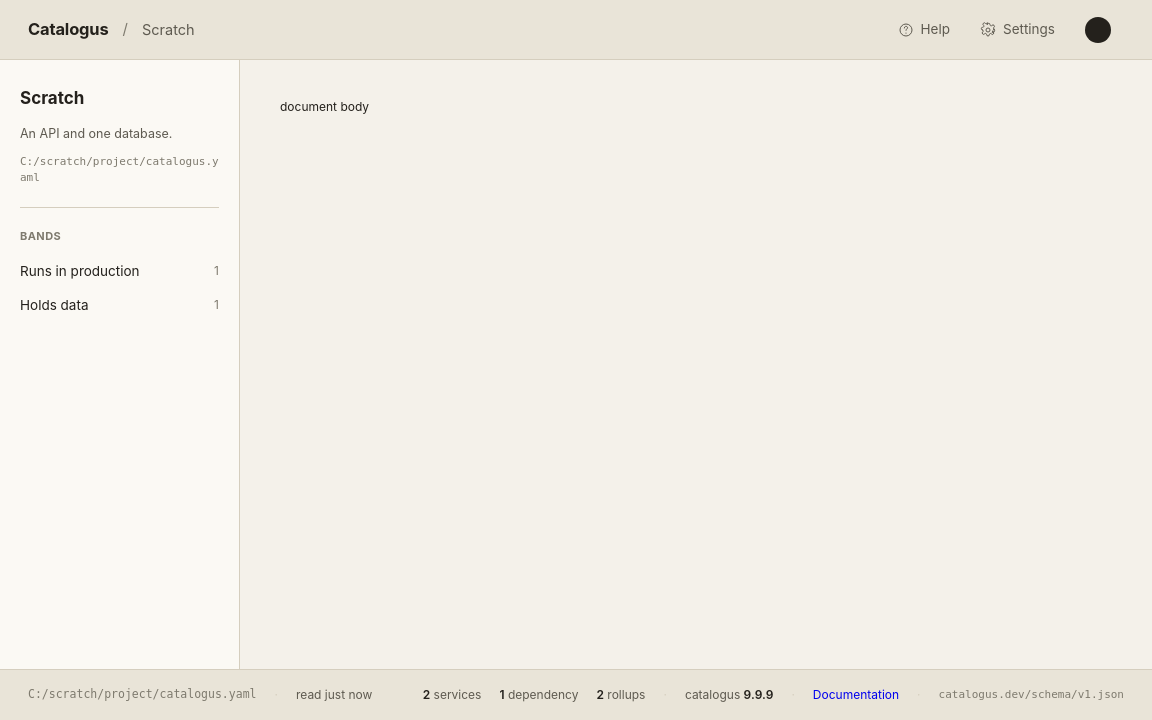
Scenario: AppShell -- the three menus › closes the Settings surface on a click outside it
Click the button "Settings".
click(1018, 30)  # box [967,11,1068,48]
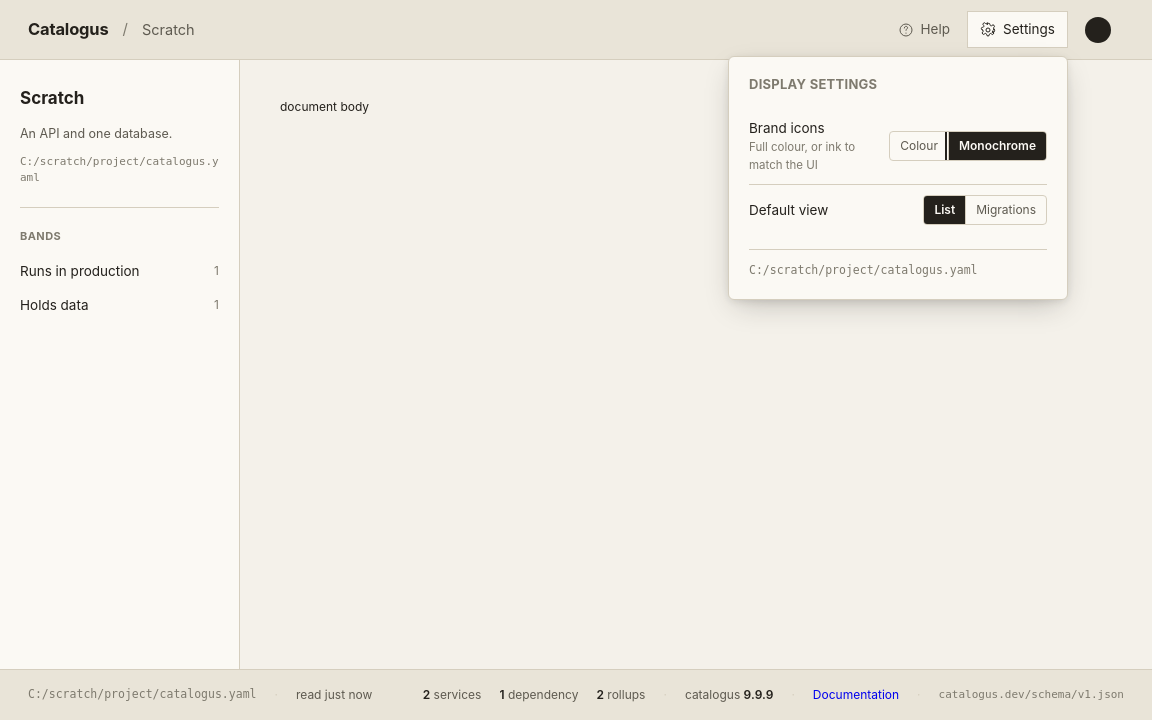
Check: the element "Display settings" is shown, box [728,56,1068,300]
Press the mouse on the text "document body" at {"x": 325, "y": 106}, box [280,99,369,114]
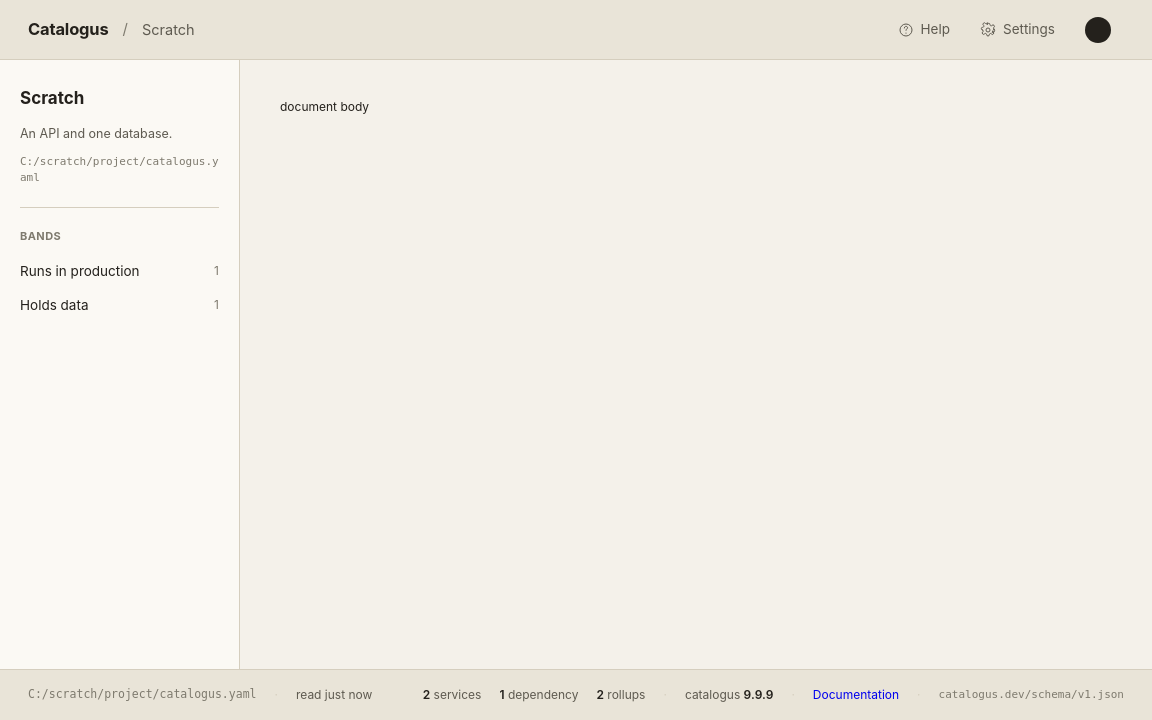
Check: the heading "Display settings" is gone
